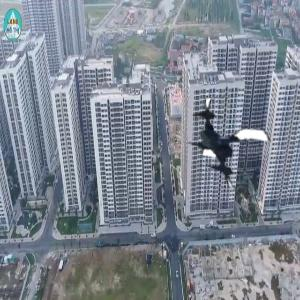drone: (182, 95, 284, 197)
